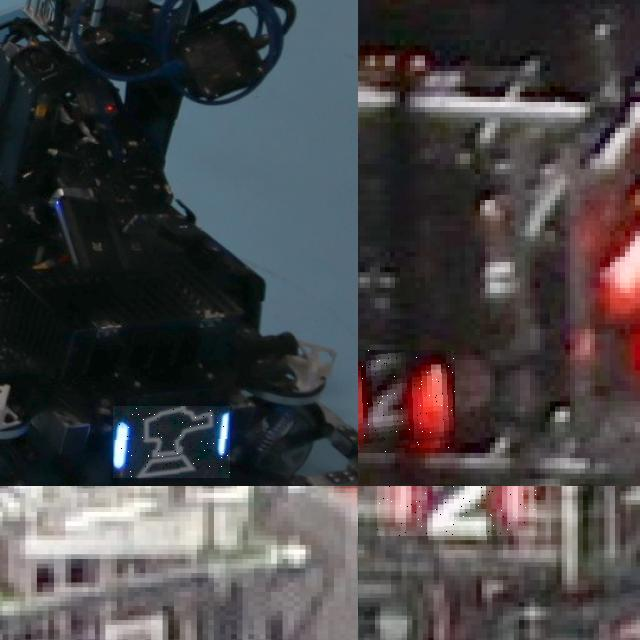Bs: (113, 406, 230, 478)
R2: (358, 350, 455, 453), (377, 486, 537, 535)
